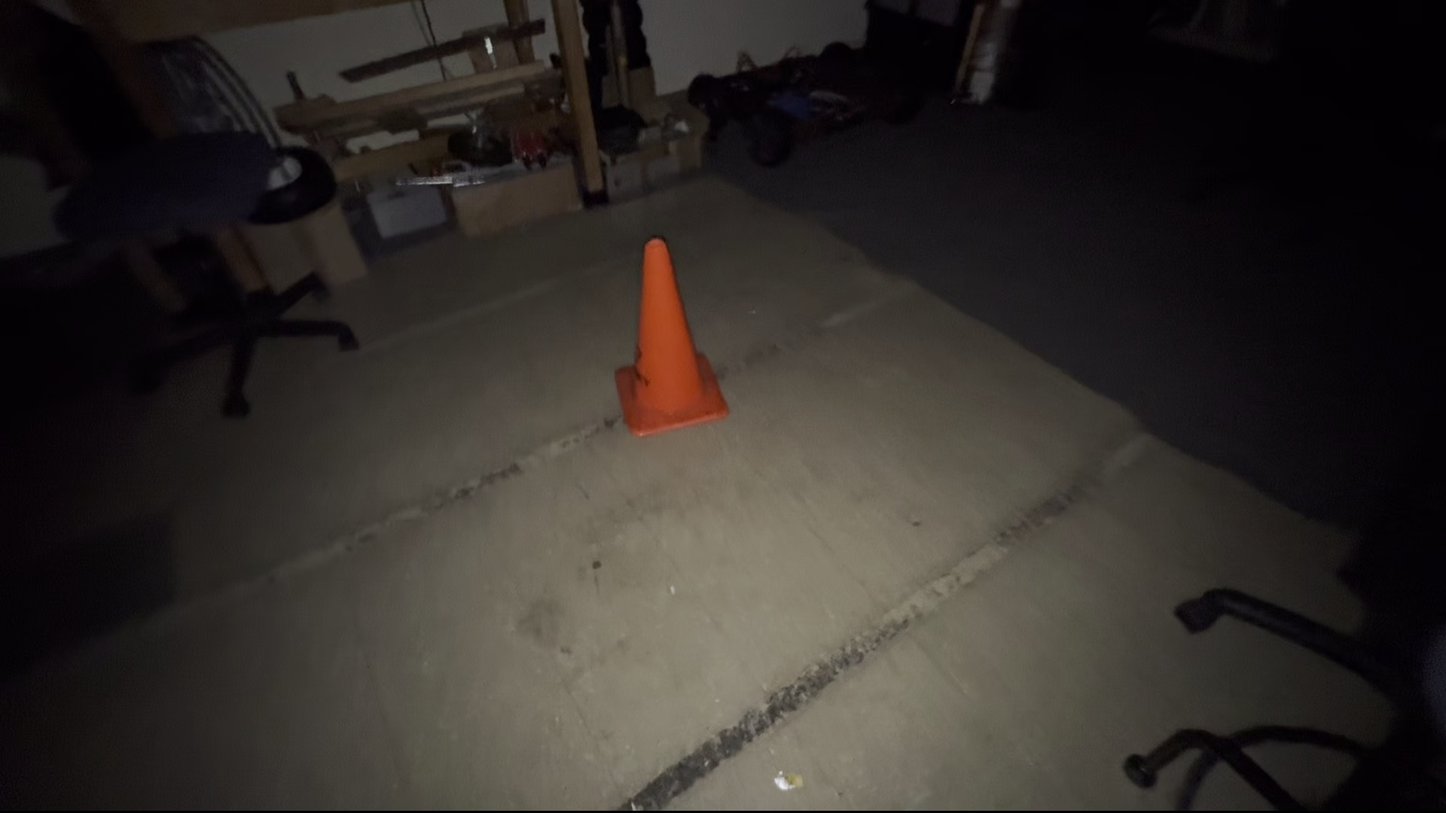traffic_cone: (613, 235, 730, 438)
